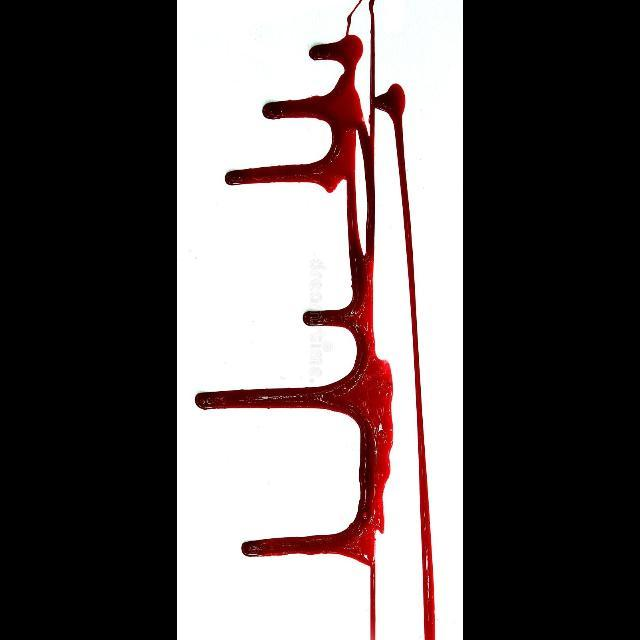blood: (195, 0, 436, 639)
